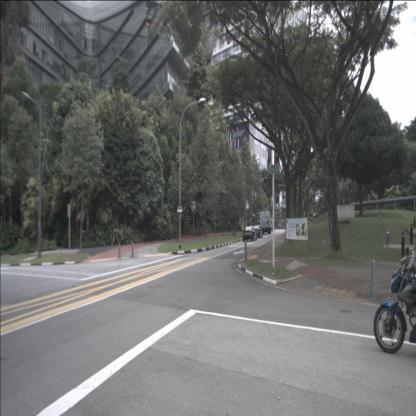vehicle-car: (242, 225, 257, 242), (252, 225, 262, 239)
vehicle-motorcycle: (373, 246, 416, 354)
vehicle-truck: (260, 210, 272, 235)
